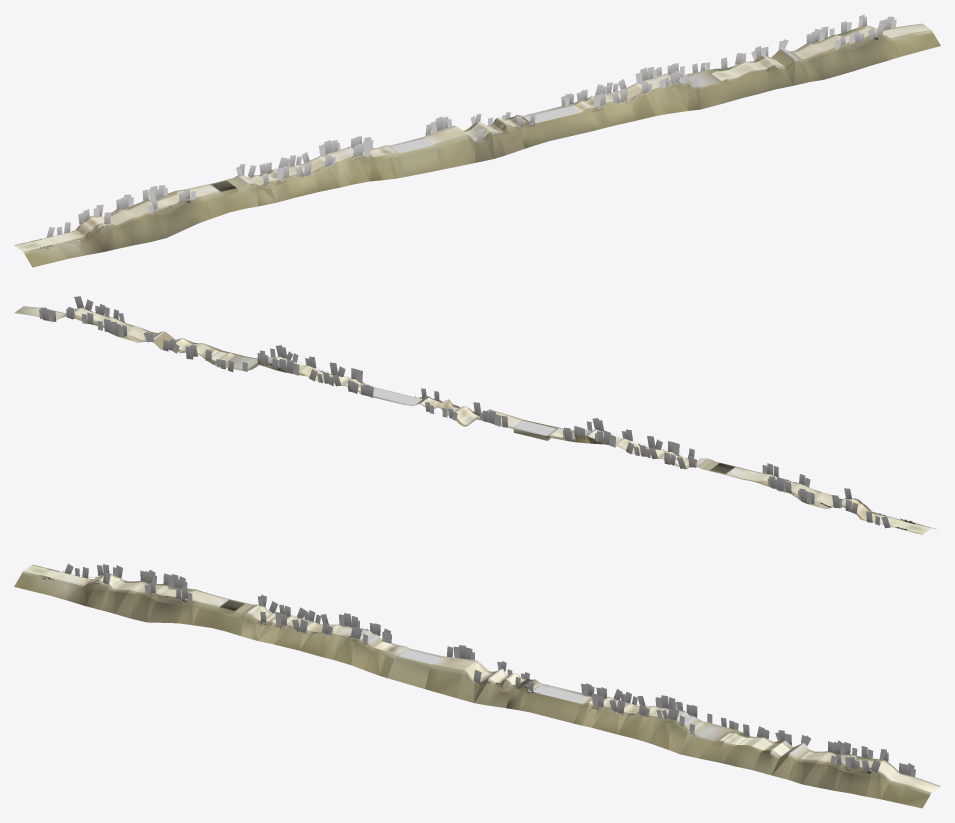
File: Beach_11.fbx
3 views of the same model, one above another, from view 1: azimuth 30°, elevation 25°; view 2: azimuth 150°, elevation 25°; view 3: azimuth 330°, elevation 25° (orthographic).
Visible parts, largest first — view 1: Road_01, Tree_01, Ground_01, Sea_01; view 2: Tree_01, Ground_01, Road_01, Sea_01; view 3: Road_01, Tree_01, Ground_01, Sea_01.
Part boxes in pixels (left/top/right/bottom): Road_01: left=14, top=23, right=940, bottom=267; Tree_01: left=45, top=14, right=896, bottom=248; Ground_01: left=15, top=24, right=931, bottom=251; Sea_01: left=390, top=106, right=580, bottom=153; Tree_01: left=39, top=296, right=912, bottom=528; Ground_01: left=15, top=306, right=931, bottom=533; Road_01: left=14, top=306, right=935, bottom=534; Sea_01: left=373, top=388, right=555, bottom=435; Road_01: left=14, top=564, right=940, bottom=808; Tree_01: left=42, top=563, right=915, bottom=778; Ground_01: left=24, top=565, right=939, bottom=792; Sea_01: left=399, top=649, right=588, bottom=703.
Bounding box in the file's own units: 75717 × 3184 × 3715.
